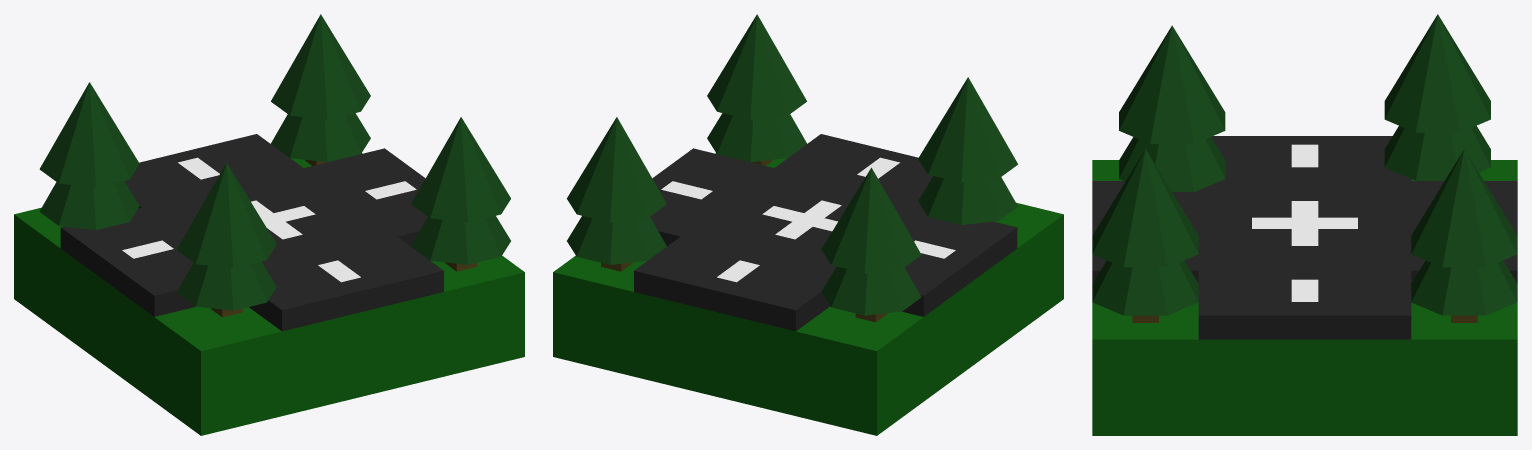
The model's file is crossing.obj.
The picture shows the model from 3 angles, left to right: view 1: azimuth 30°, elevation 25°; view 2: azimuth 150°, elevation 25°; view 3: azimuth 270°, elevation 25°; orthographic projection. The views are drawn at different scales.
Visible parts, largest first — view 1: grass, road, cone, plane; view 2: grass, cone, road, plane; view 3: grass, cone, road, plane, cylinder.
Part boxes in pixels (bbox=[...]): grass: bbox=[14, 153, 524, 435]; road: bbox=[60, 134, 443, 331]; cone: bbox=[39, 14, 510, 310]; plane: bbox=[122, 157, 416, 282]; grass: bbox=[553, 153, 1063, 435]; cone: bbox=[567, 14, 1018, 315]; road: bbox=[634, 134, 1017, 331]; plane: bbox=[661, 157, 955, 282]; grass: bbox=[1092, 160, 1517, 435]; cone: bbox=[1092, 14, 1517, 315]; road: bbox=[1092, 136, 1517, 339]; plane: bbox=[1252, 144, 1357, 301]; cylinder: bbox=[1132, 315, 1477, 322].
Bounding box in the file's own units: 0.25 × 0.1719 × 0.25.
1 material, 1 textured.
